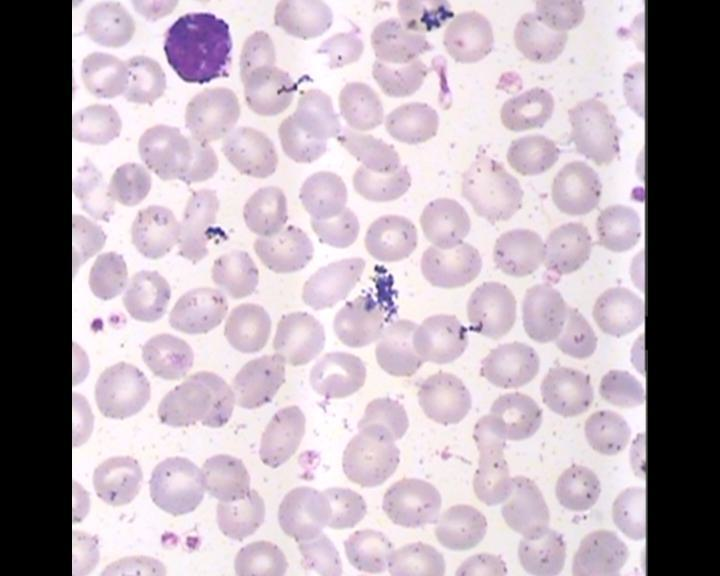baso: (159, 10, 240, 85)
